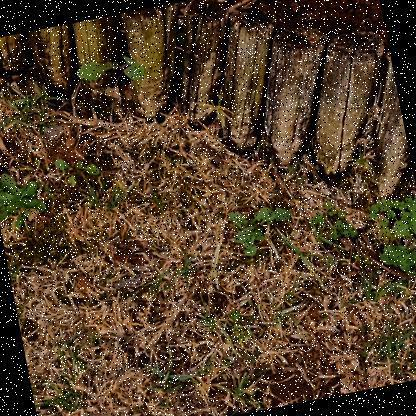Weeds: (226, 196, 298, 260), (372, 206, 415, 294), (0, 166, 53, 233), (75, 49, 147, 92), (51, 149, 102, 190)
